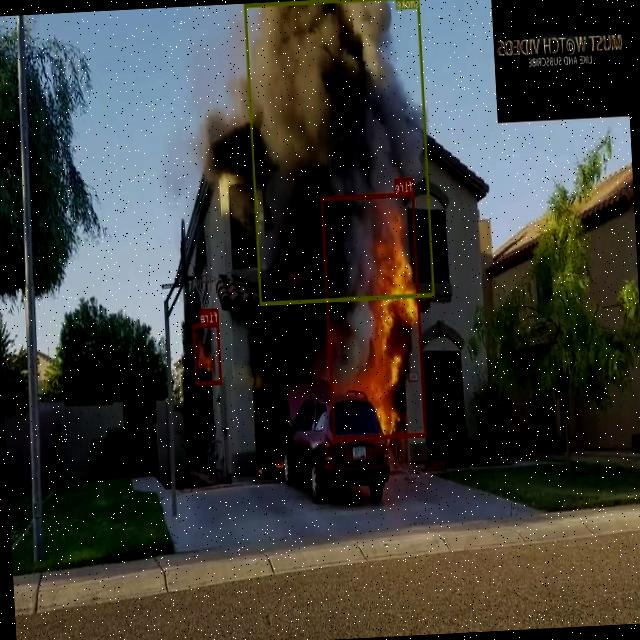fire: (322, 191, 428, 441), (193, 322, 222, 384)
smoke: (244, 0, 435, 305)
